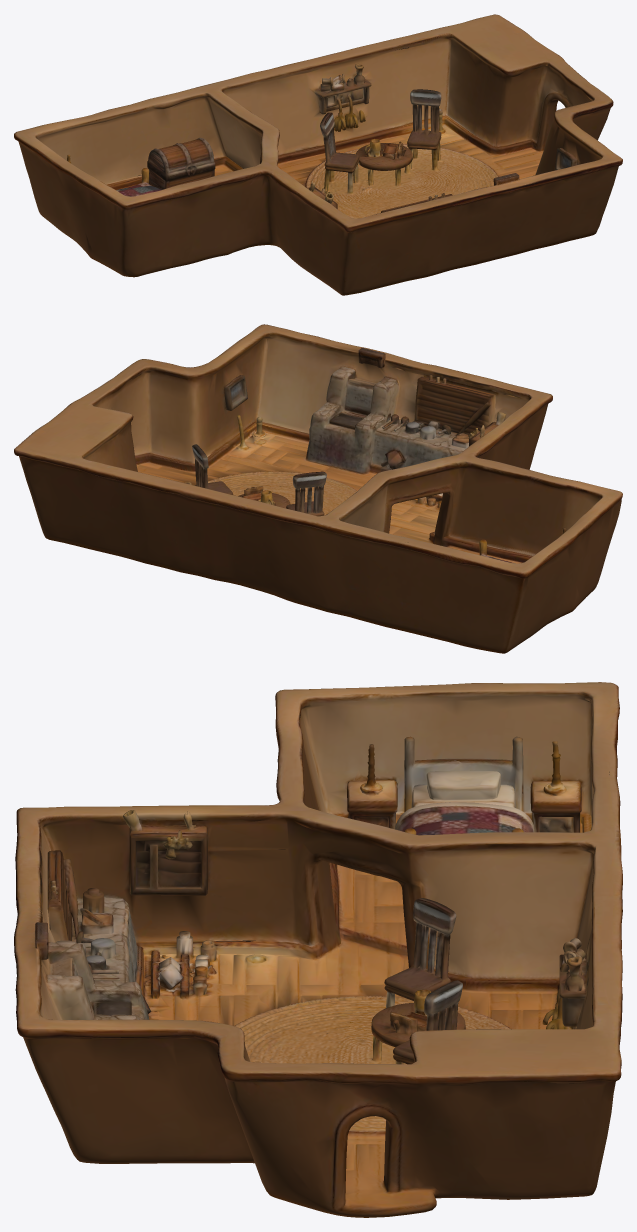
Rendered from cozy_cabin_interior.fbx.
3 renders of one model, top to bottom at view 1: azimuth 30°, elevation 25°; view 2: azimuth 150°, elevation 25°; view 3: azimuth 270°, elevation 25°, orthographic. The views are drawn at different scales.
Visible parts, largest first — view 1: tripo_node_a53c3cab; view 2: tripo_node_a53c3cab; view 3: tripo_node_a53c3cab.
Part boxes in pixels (x1,y1,x2,y2): tripo_node_a53c3cab: (14,14,622,295); tripo_node_a53c3cab: (14,324,622,653); tripo_node_a53c3cab: (14,682,622,1217).
Bounding box in the file's own units: 98.03 × 63.54 × 17.58.
1 material, 1 textured.
